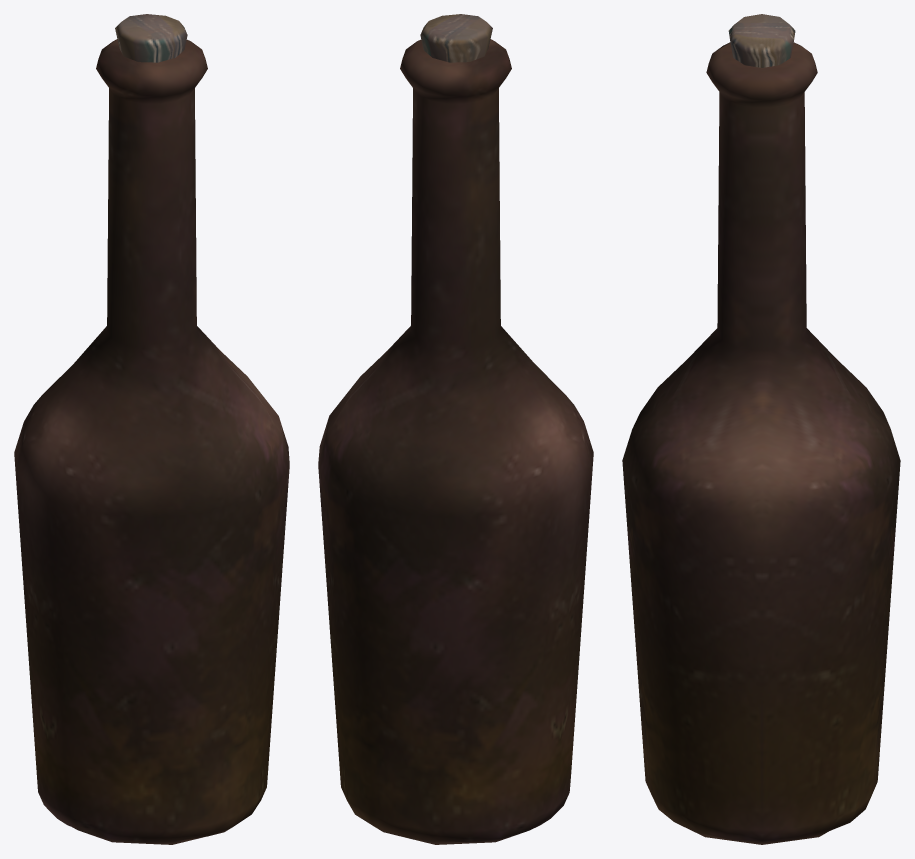
The model's file is village_bottle_05.fbx.
3 renders of one model, left to right at view 1: azimuth 30°, elevation 25°; view 2: azimuth 150°, elevation 25°; view 3: azimuth 270°, elevation 25°, orthographic.
Visible parts, largest first — view 1: village_bottle_05; view 2: village_bottle_05; view 3: village_bottle_05.
Part boxes in pixels (box(x1,y1,x2,y2)): village_bottle_05: box(14, 14, 289, 844); village_bottle_05: box(318, 14, 593, 844); village_bottle_05: box(622, 14, 900, 844).
Size of the model in its own units: 11.09 by 34.52 by 11.21.
